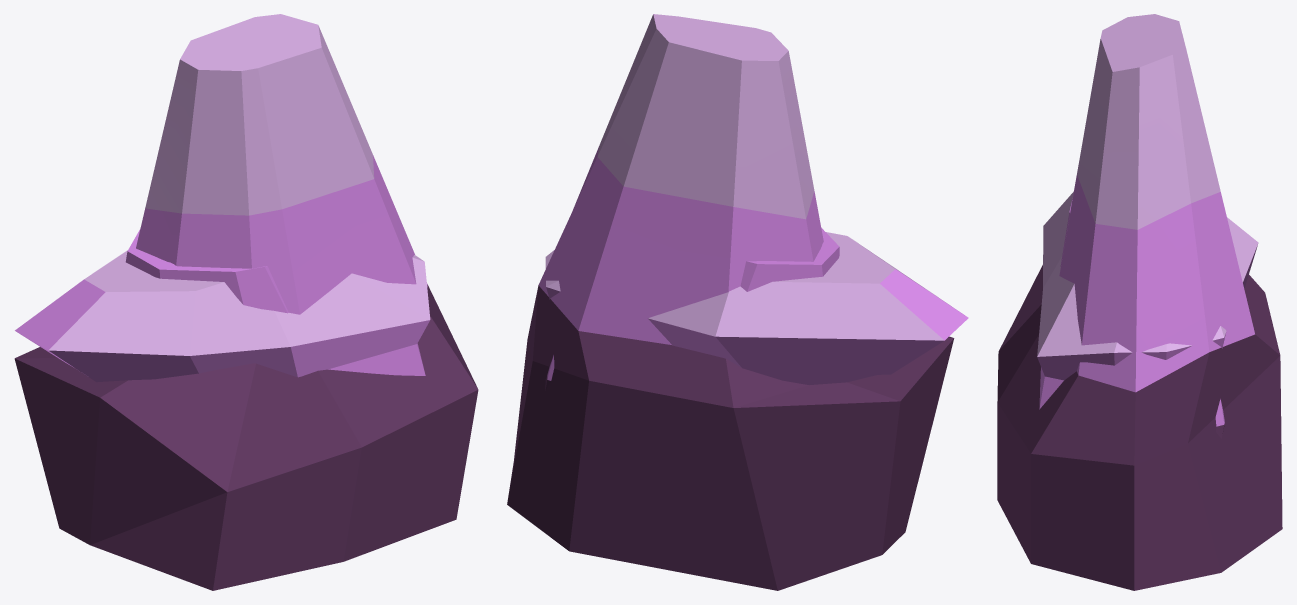
File: Rock.fbx
3 renders of one model, left to right at view 1: azimuth 30°, elevation 25°; view 2: azimuth 150°, elevation 25°; view 3: azimuth 270°, elevation 25°, orthographic. The views are drawn at different scales.
Parts seen in each view (by area): view 1: Cube.001, Cube.002, Cube.003; view 2: Cube.001, Cube.002, Cube.003; view 3: Cube.002, Cube.001, Cube.003.
Part boxes in pixels (left/top/right/bottom): Cube.001: left=14, top=14, right=427, bottom=544; Cube.002: left=90, top=229, right=478, bottom=590; Cube.003: left=15, top=250, right=430, bottom=382; Cube.001: left=538, top=14, right=954, bottom=590; Cube.002: left=507, top=228, right=839, bottom=590; Cube.003: left=545, top=232, right=968, bottom=391; Cube.002: left=997, top=200, right=1282, bottom=590; Cube.001: left=999, top=14, right=1263, bottom=392; Cube.003: left=1037, top=192, right=1258, bottom=438.
Bounding box in the file's own units: 228 × 239 × 134.
